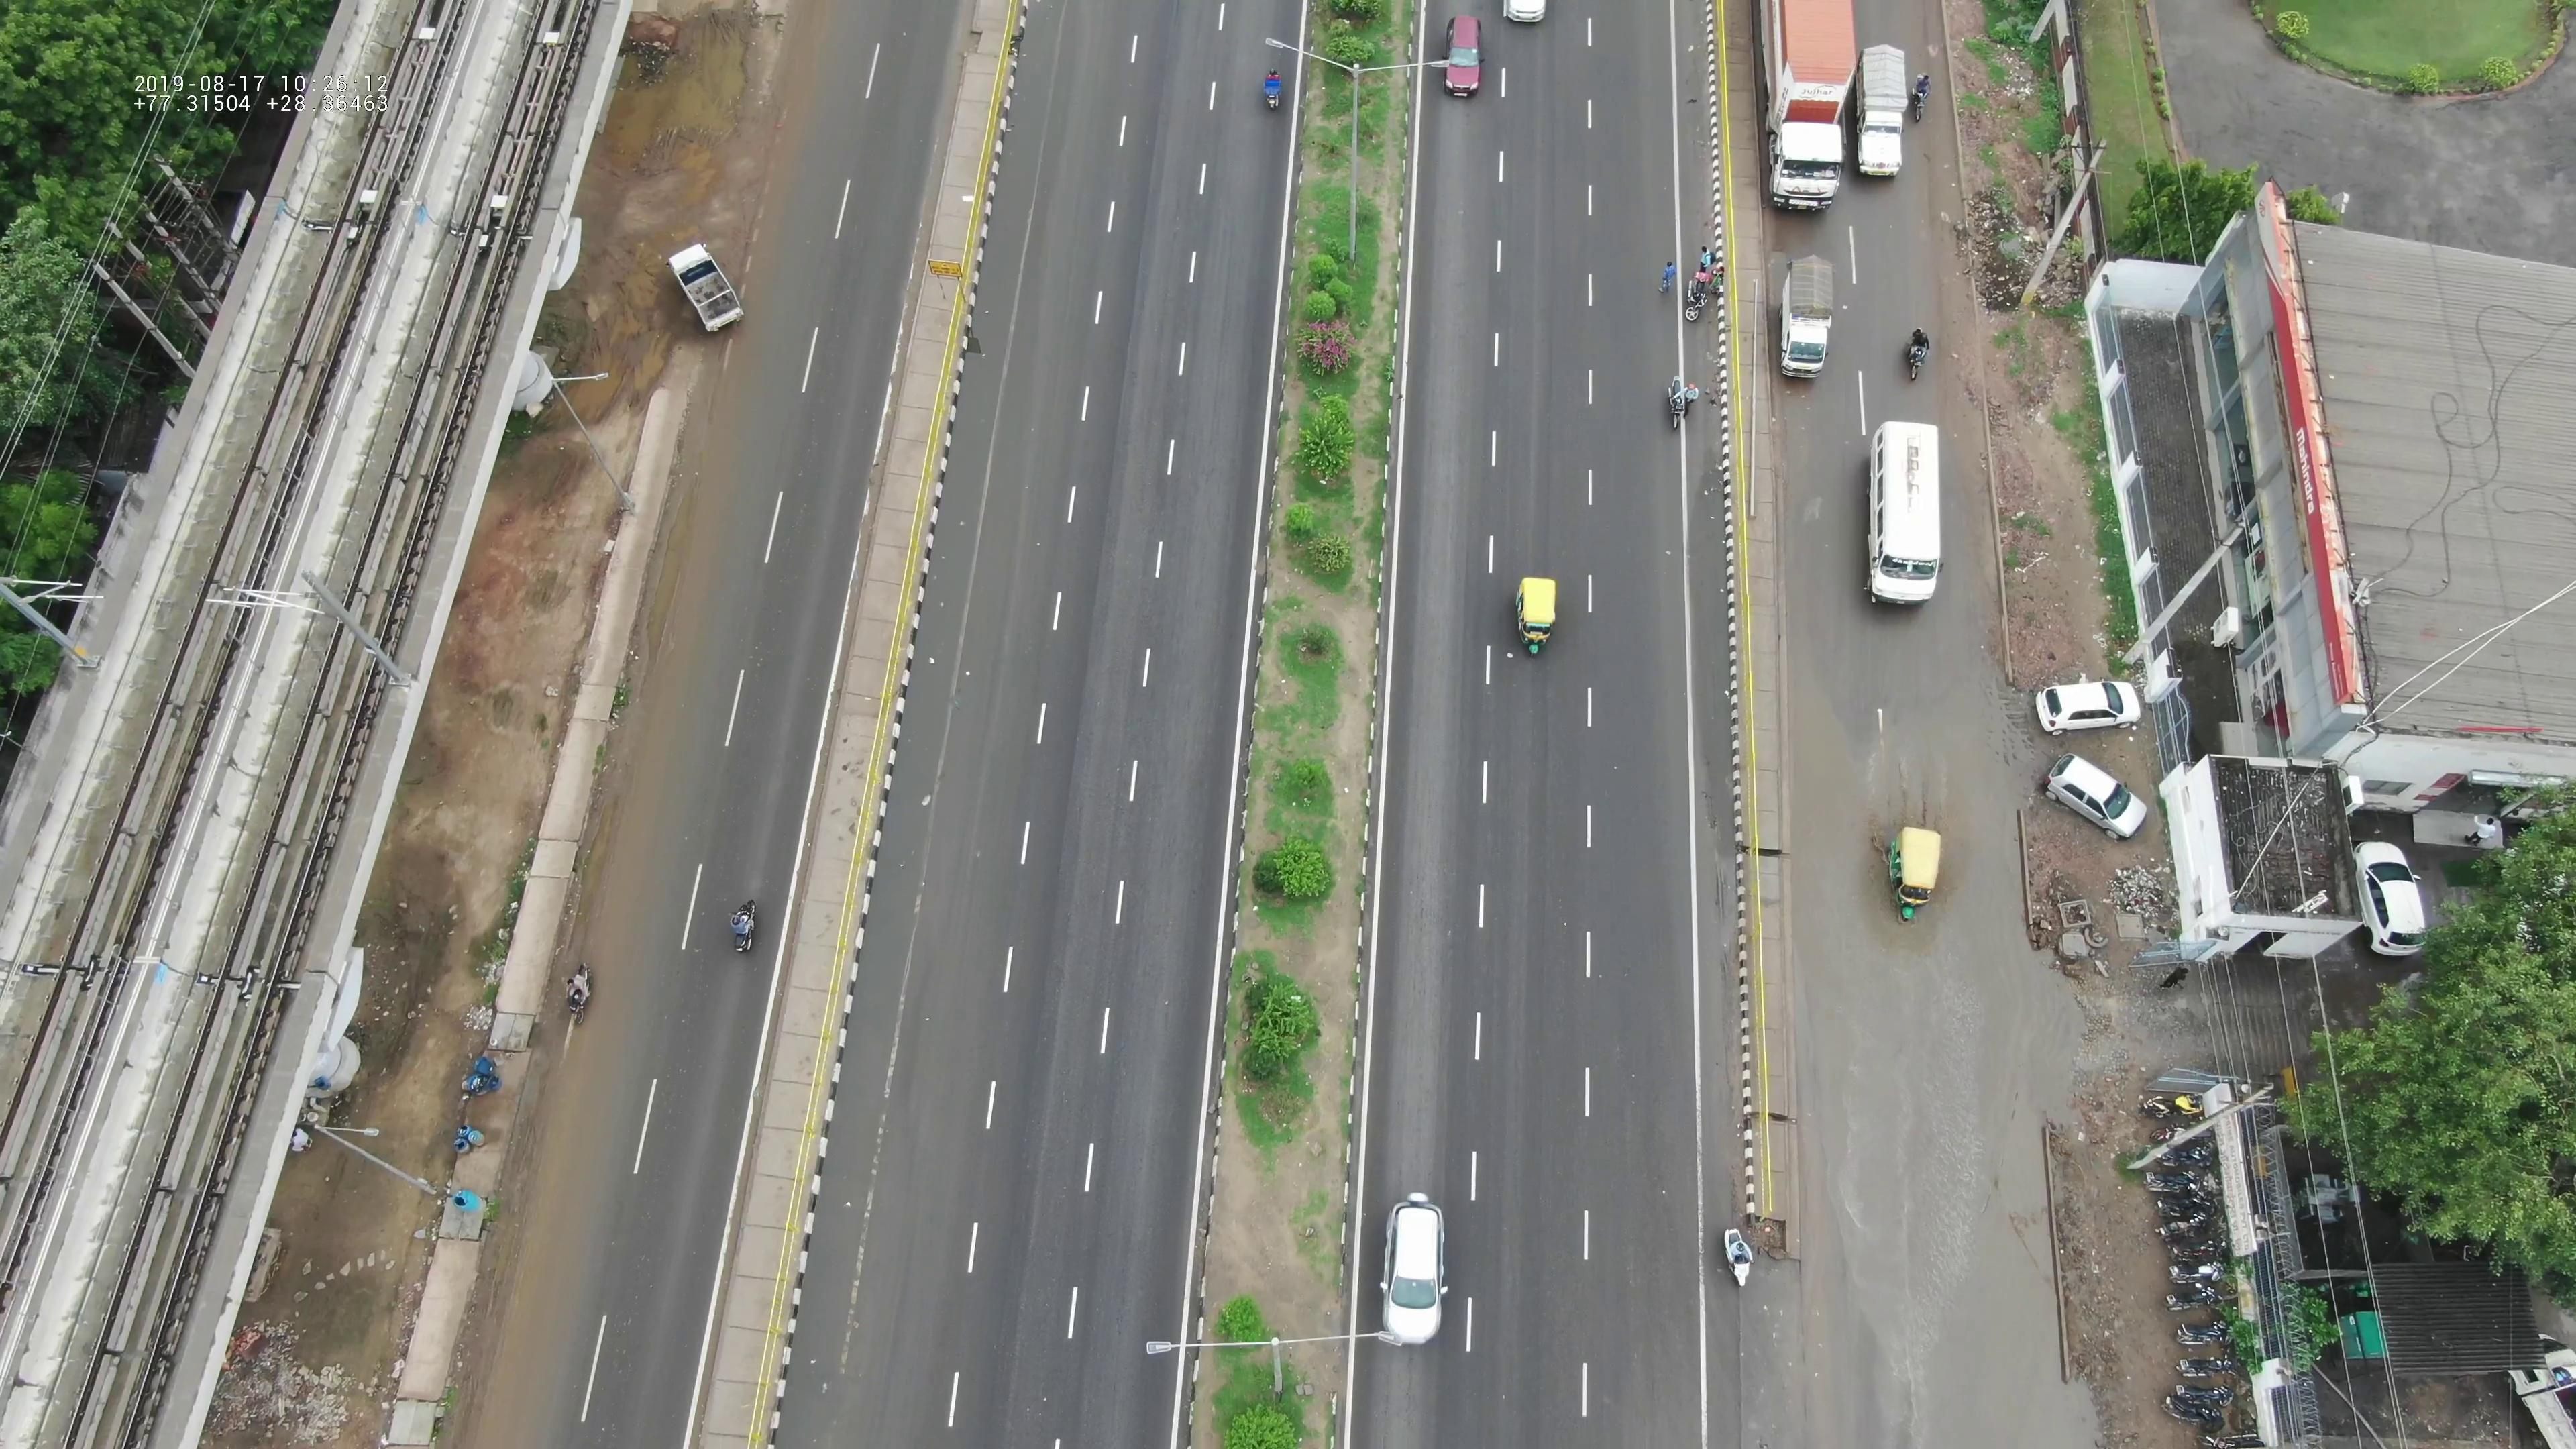Muddy_road: (557, 709, 663, 971), (465, 1175, 570, 1410), (508, 1014, 614, 1155)
Waterlogging: (1805, 893, 2063, 1414), (632, 467, 711, 671)
